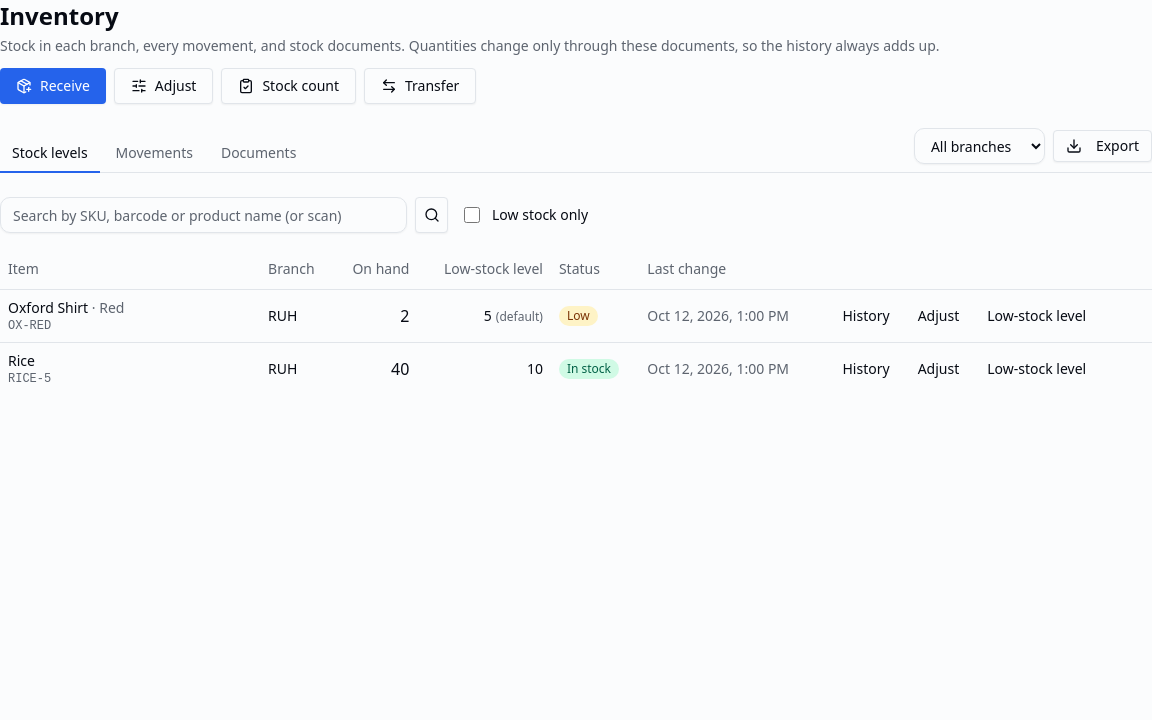
Inventory page › adjusts from a row: prefilled item and branch, signed change, idempotency key, short-stock error
This screenshot has width=1152, height=720.
Step 1. Click the button with aria-label "Adjust OX-RED in RUH" → (938, 316), box top-left (906, 300), bottom-right (971, 332)
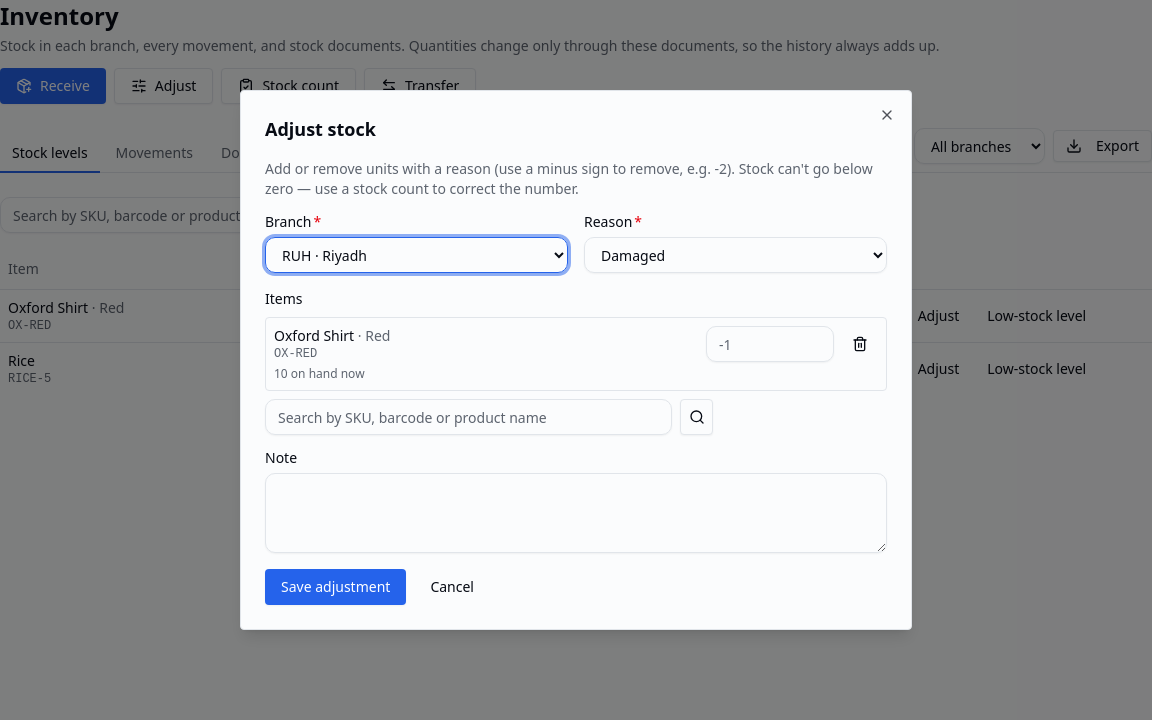
Expected: the text "10 on hand now" is shown, top-left (274, 365), bottom-right (365, 382)
Step 2. Select "Expired" in the dropdown labelled "Reason*" → (736, 255), box top-left (584, 237), bottom-right (887, 273)
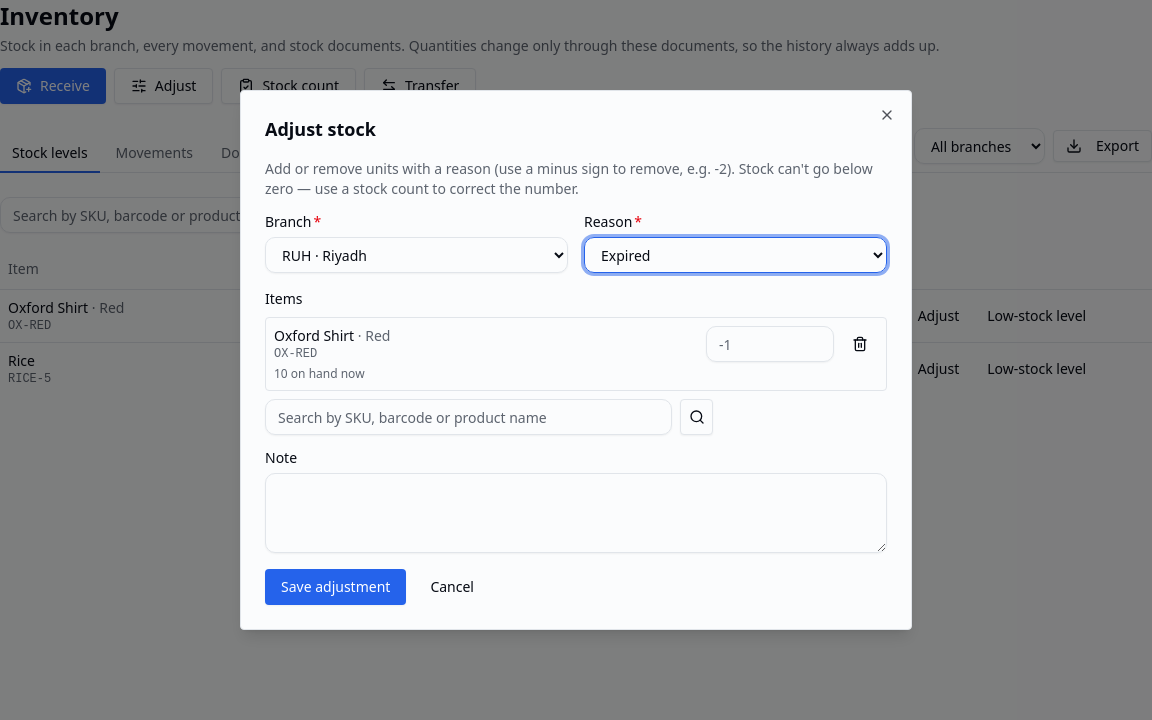
Step 3. Type "-1x2" into the field named "Change for OX-RED" → (770, 344), box top-left (706, 326), bottom-right (834, 362)
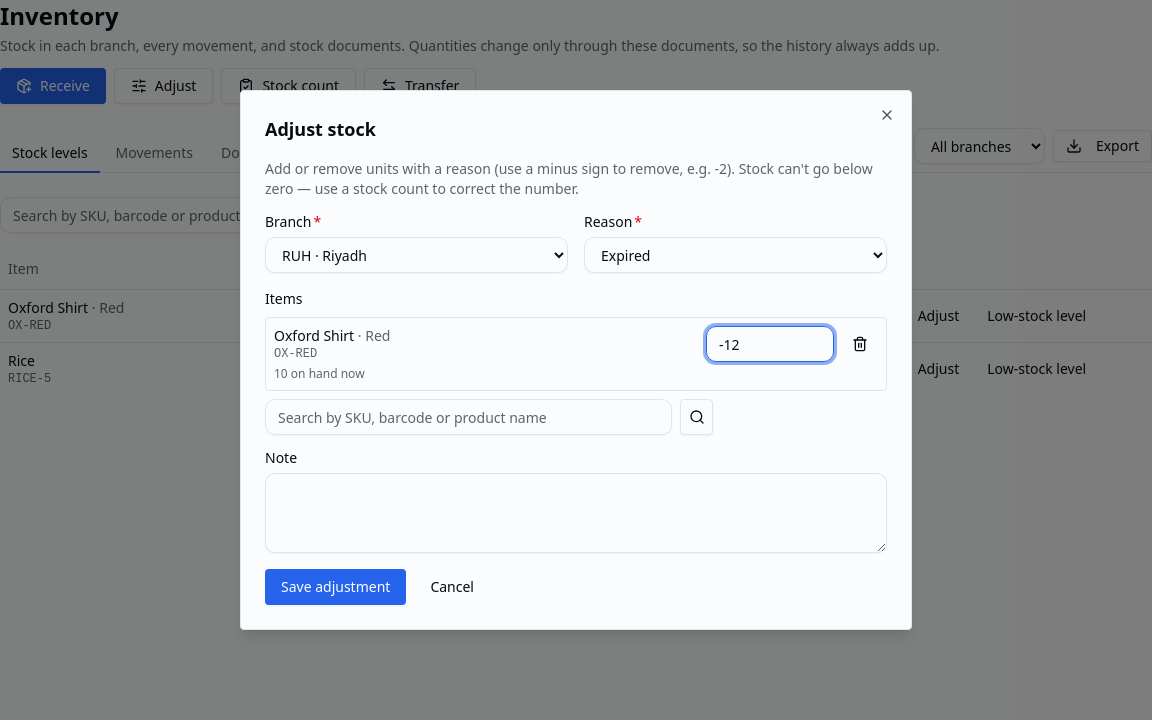
Expected: the field named "Change for OX-RED" holds "-12", top-left (706, 326), bottom-right (834, 362)
Step 4. Click the button "Save adjustment" → (336, 587), box top-left (265, 569), bottom-right (406, 605)
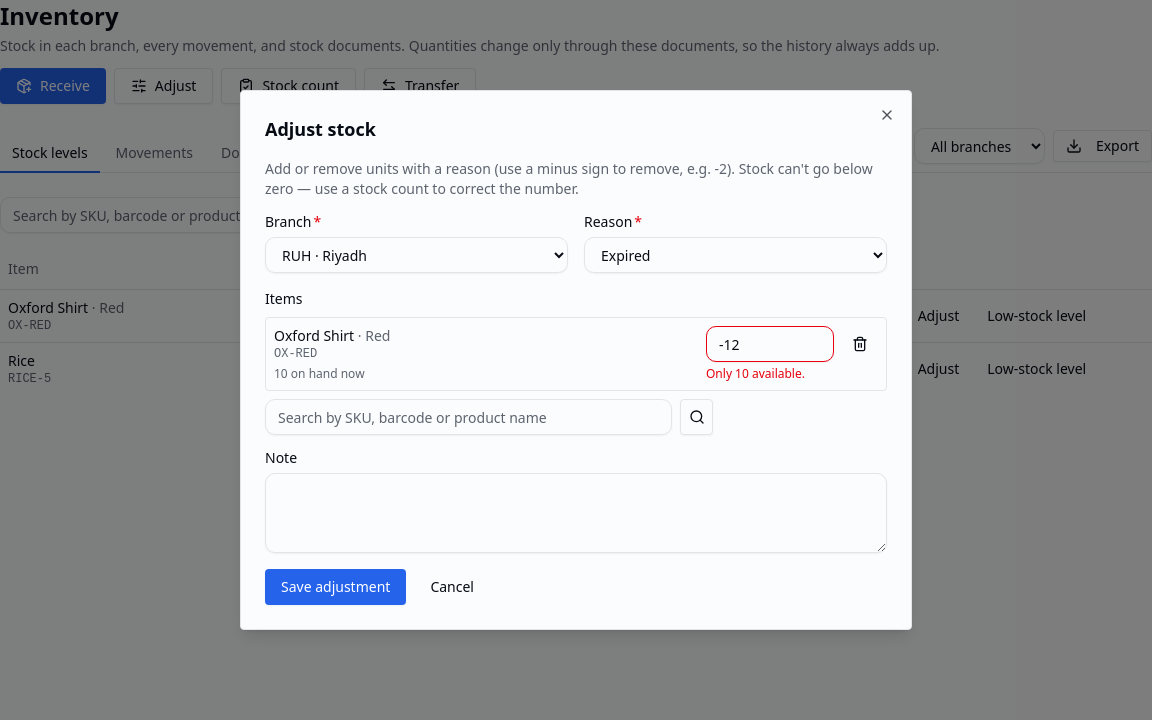
Expected: the text "Only 10 available." is shown, top-left (706, 365), bottom-right (805, 382)
Step 5. Replace the text in the field named "Change for OX-RED" with "-2" → (770, 344), box top-left (706, 326), bottom-right (834, 362)
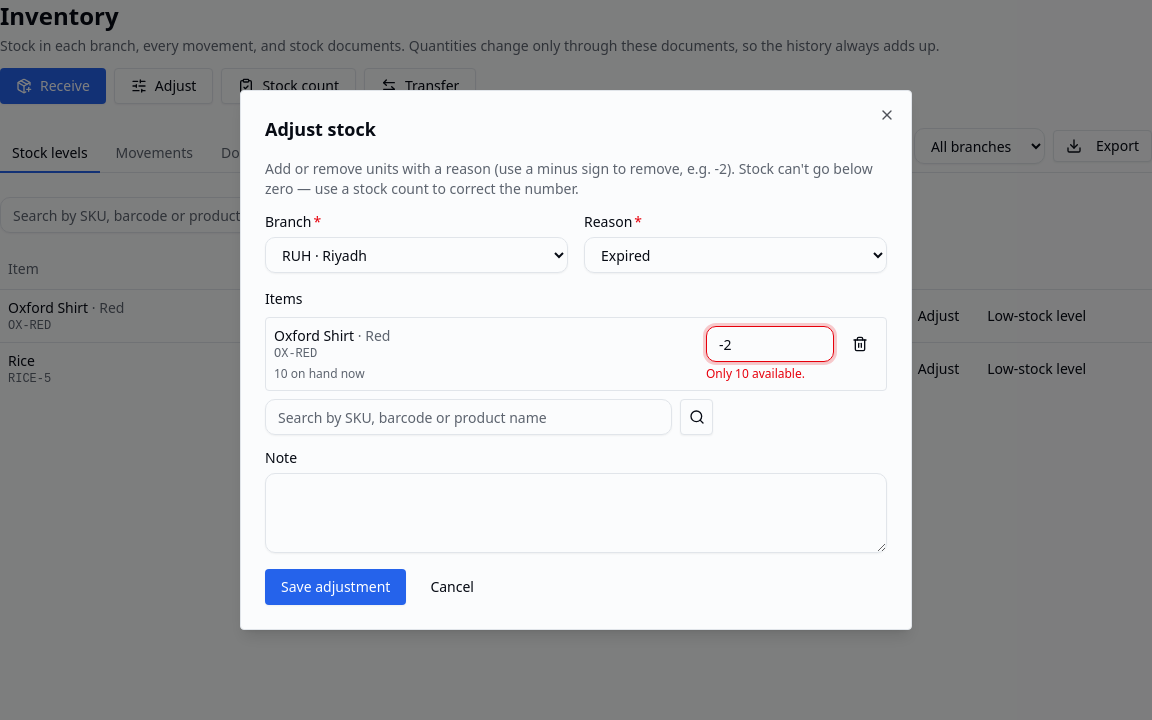
Step 6. Click the button "Save adjustment" → (336, 587), box top-left (265, 569), bottom-right (406, 605)
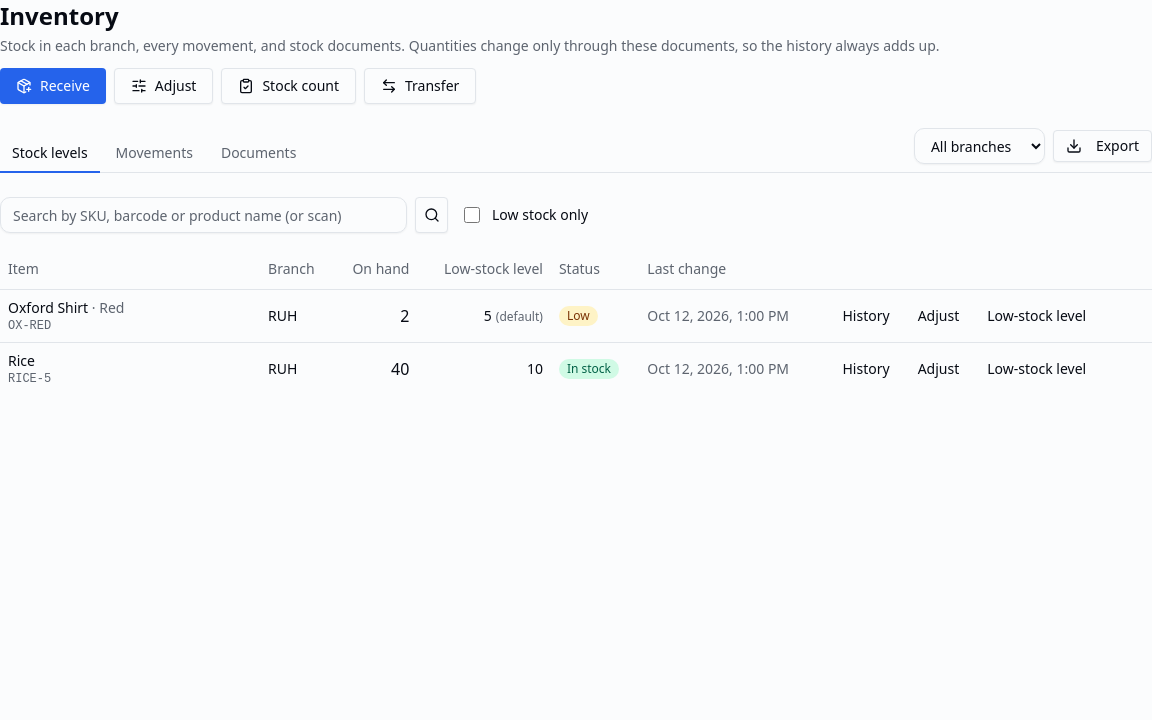
Expected: the dialog is gone
